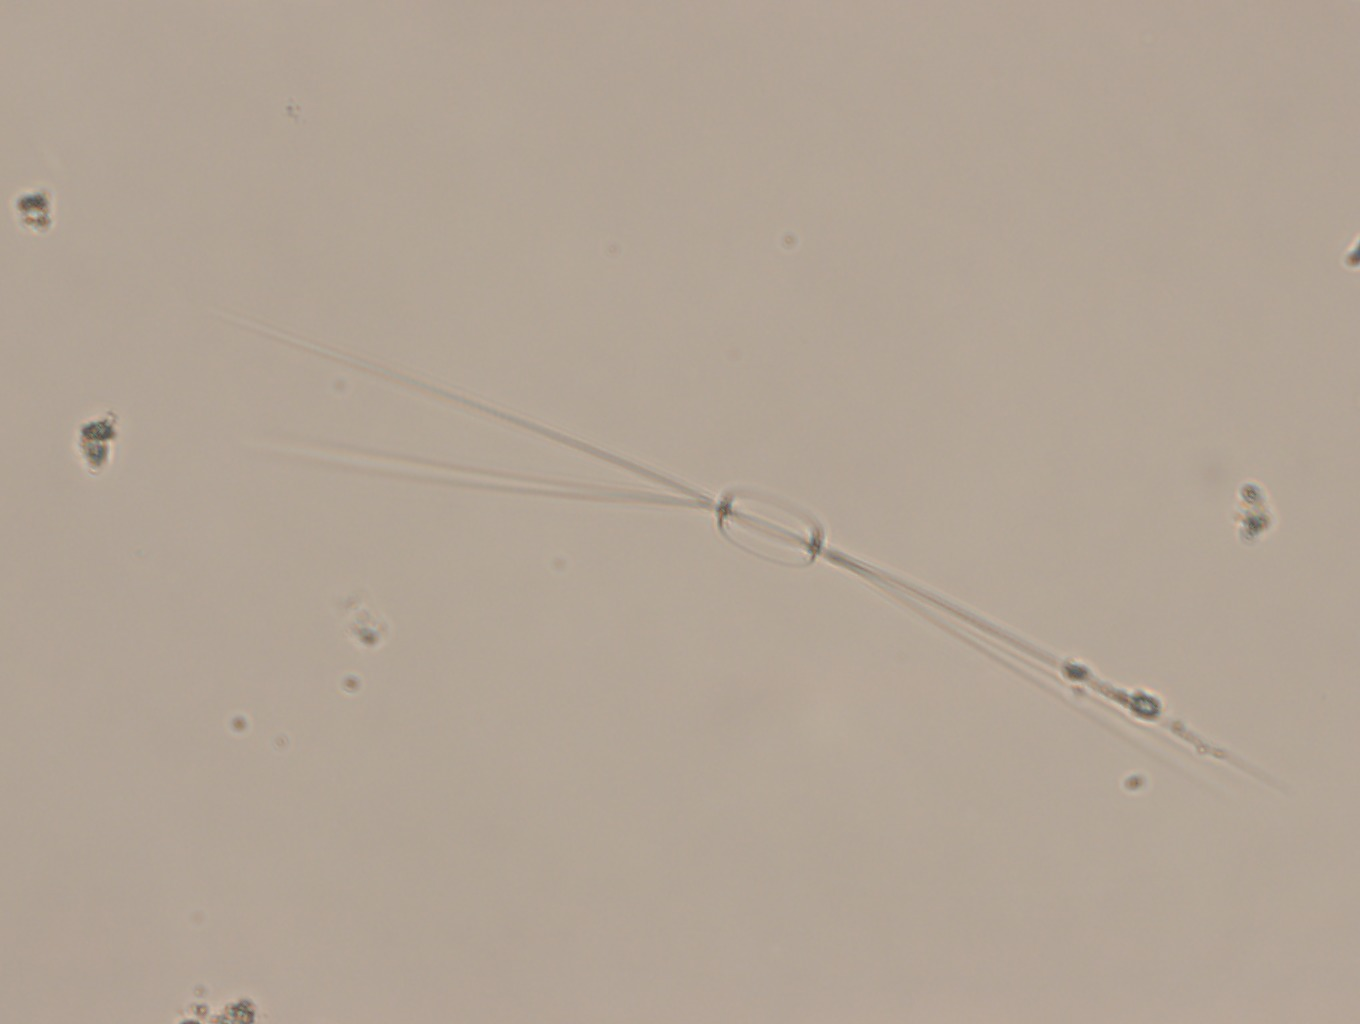chaetoceros: (252, 322, 1258, 801)
